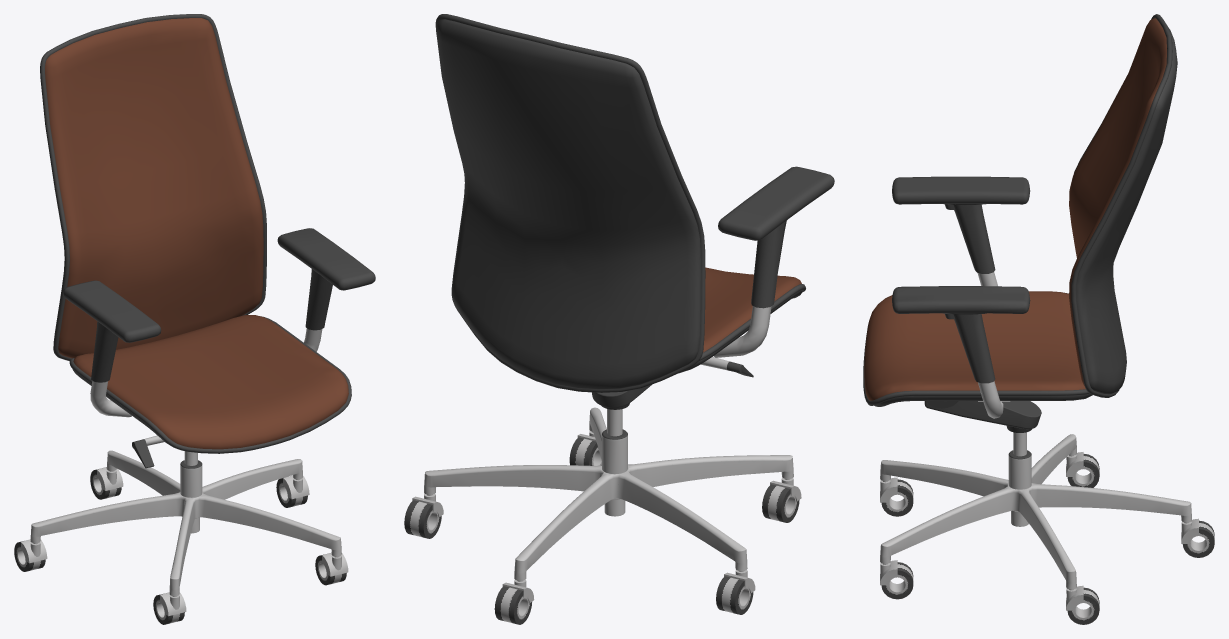
Rendered from officechair.glb.
The picture shows the model from 3 angles, left to right: view 1: azimuth 30°, elevation 25°; view 2: azimuth 150°, elevation 25°; view 3: azimuth 270°, elevation 25°; orthographic projection. The views are drawn at different scales.
Parts seen in each view (by area): view 1: SM_Modern_Office_chair; view 2: SM_Modern_Office_chair; view 3: SM_Modern_Office_chair.
Boxes of the visible parts, x1,y1,x2,y2 form: SM_Modern_Office_chair: (14, 14, 375, 624); SM_Modern_Office_chair: (404, 14, 834, 624); SM_Modern_Office_chair: (863, 14, 1214, 624).
Size of the model in its own units: 0.6205 by 1.02 by 0.6443.
Materials: 1 (1 with a texture image).
